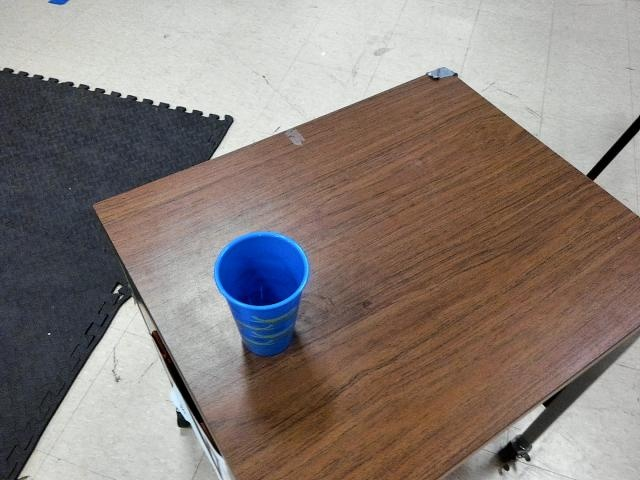water_cup: (208, 219, 322, 376)
